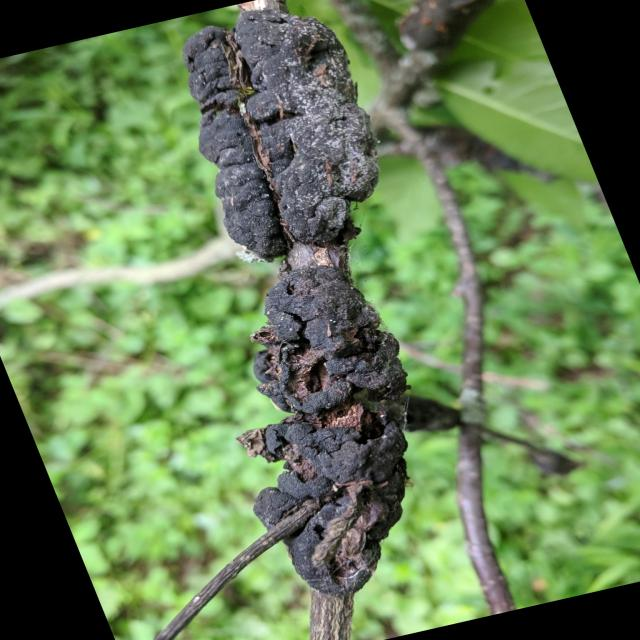Black_knot: (178, 6, 414, 603), (182, 8, 381, 260)
